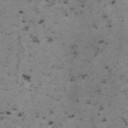oxide scale of temperature system: (0, 0, 128, 126), (22, 74, 32, 82), (112, 0, 116, 4)
